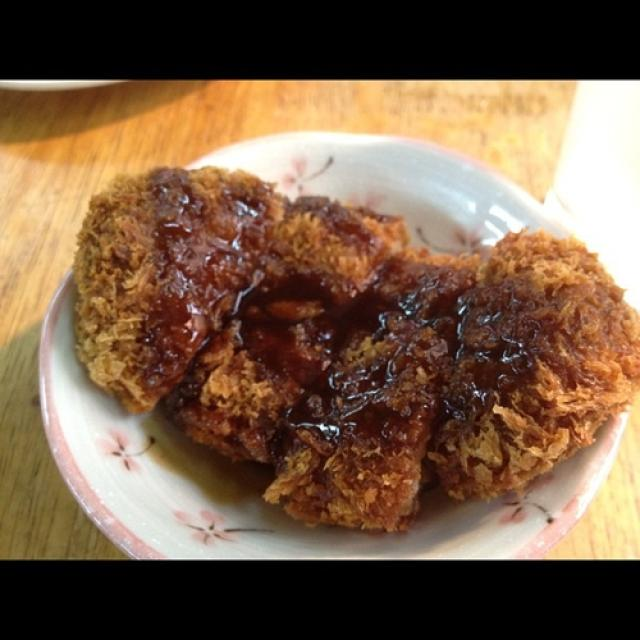炸货点心: (55, 131, 634, 544)
